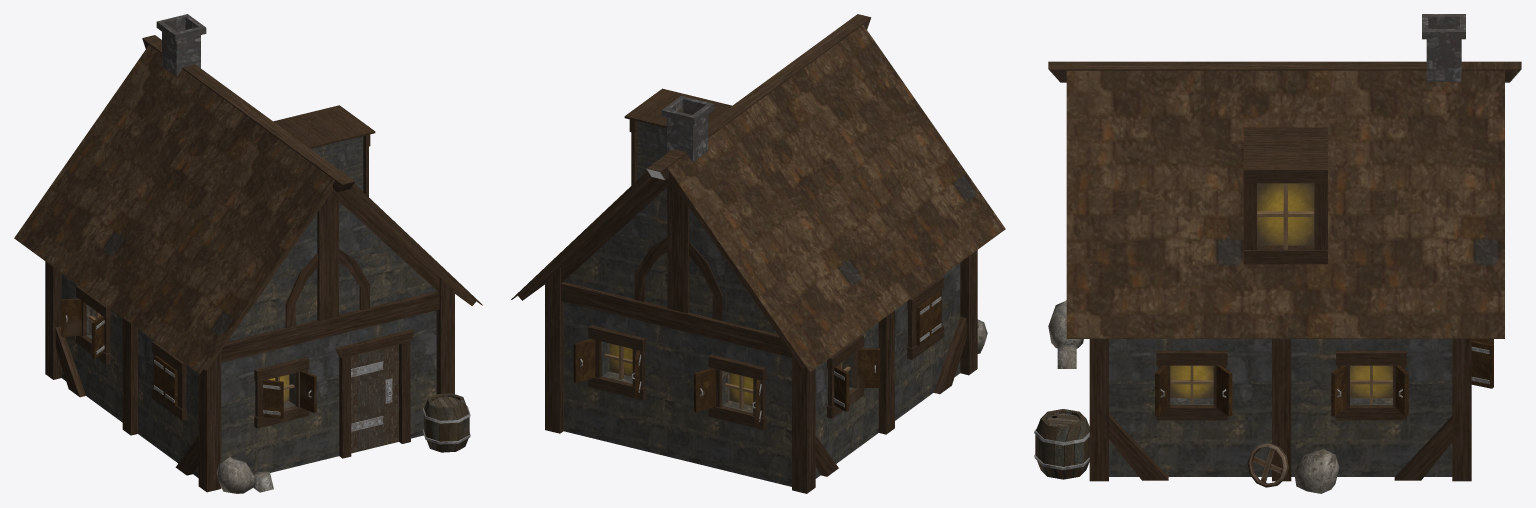
Rendered from house 6.fbx.
The picture shows the model from 3 angles, left to right: view 1: azimuth 30°, elevation 25°; view 2: azimuth 150°, elevation 25°; view 3: azimuth 270°, elevation 25°; orthographic projection. The views are drawn at different scales.
Visible parts, largest first — view 1: House_01.001_BaseBody.001_0, House_01_Windows.001_DoorAndWindow_0, House_01_Props.001_OutProp_0; view 2: House_01.001_BaseBody.001_0, House_01_Windows.001_DoorAndWindow_0; view 3: House_01.001_BaseBody.001_0, House_01_Windows.001_DoorAndWindow_0, House_01_Props.001_OutProp_0.
Part boxes in pixels (<box>): House_01.001_BaseBody.001_0: <box>14,14,482,492</box>; House_01_Windows.001_DoorAndWindow_0: <box>61,105,414,458</box>; House_01_Props.001_OutProp_0: <box>216,393,470,493</box>; House_01.001_BaseBody.001_0: <box>511,14,1005,493</box>; House_01_Windows.001_DoorAndWindow_0: <box>573,88,943,429</box>; House_01.001_BaseBody.001_0: <box>1048,14,1521,481</box>; House_01_Windows.001_DoorAndWindow_0: <box>1155,127,1493,420</box>; House_01_Props.001_OutProp_0: <box>1034,300,1339,493</box>.
Size of the model in its own units: 650 by 702 by 801.
Materials: 3 (3 with a texture image).
